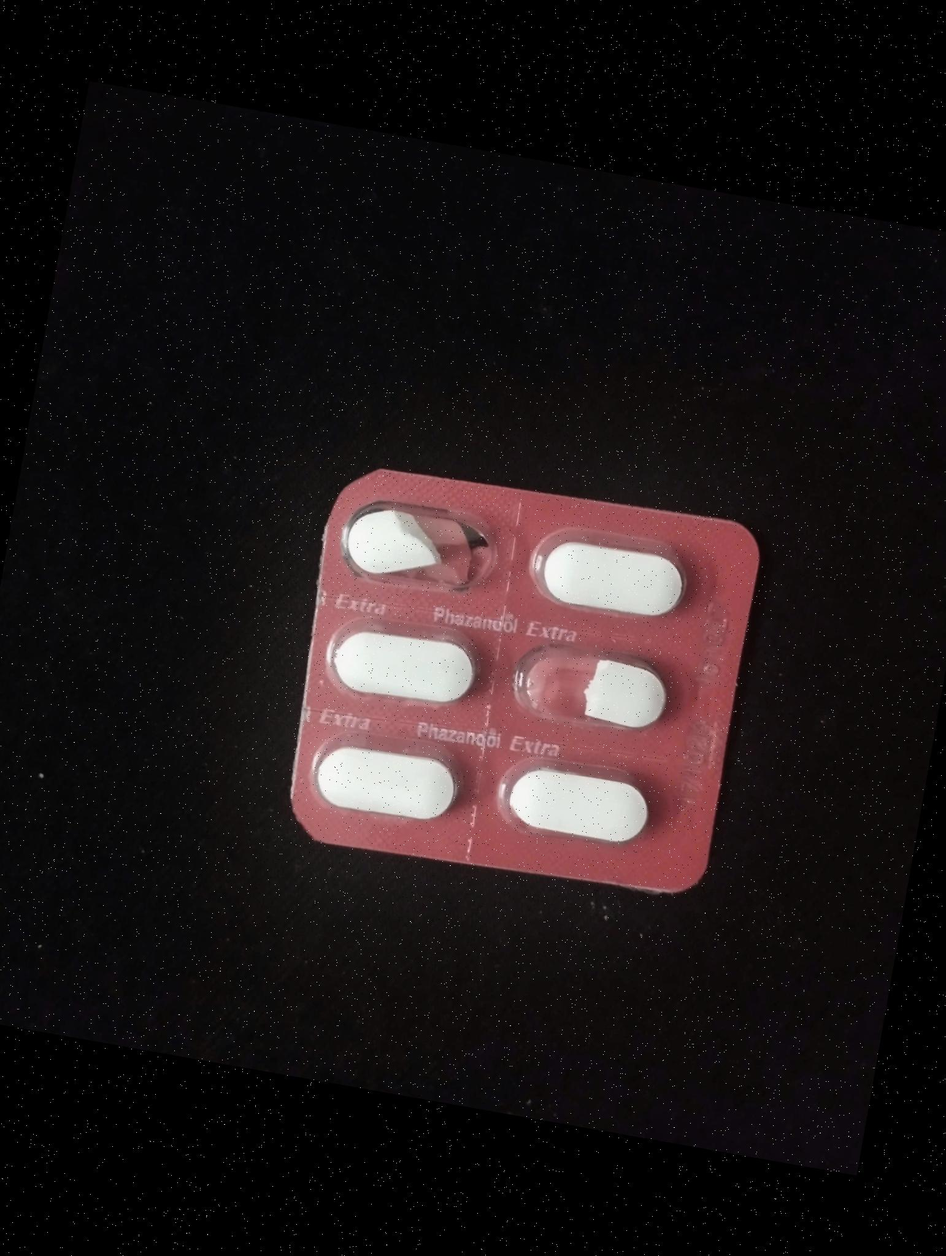Full: (528, 519, 706, 636), (314, 604, 494, 716), (487, 752, 661, 860), (303, 730, 464, 833)
Partial: (342, 483, 517, 600), (517, 632, 690, 739)
